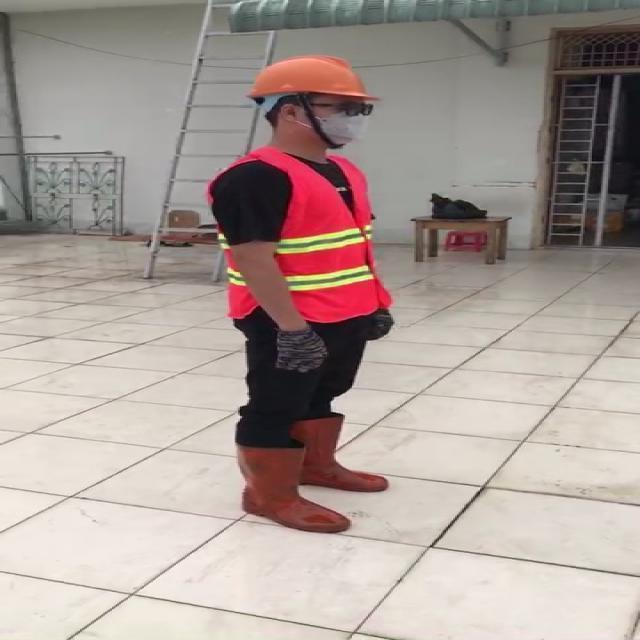gloves: (274, 328, 328, 375)
goggles: (328, 99, 376, 121)
helmet: (241, 53, 375, 101)
safety_vest: (206, 144, 388, 319)
